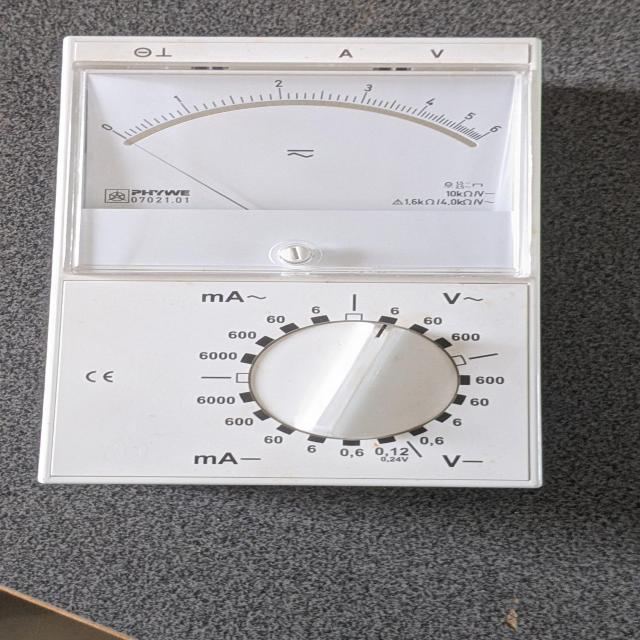Analog Multimeter: (29, 30, 574, 500)
